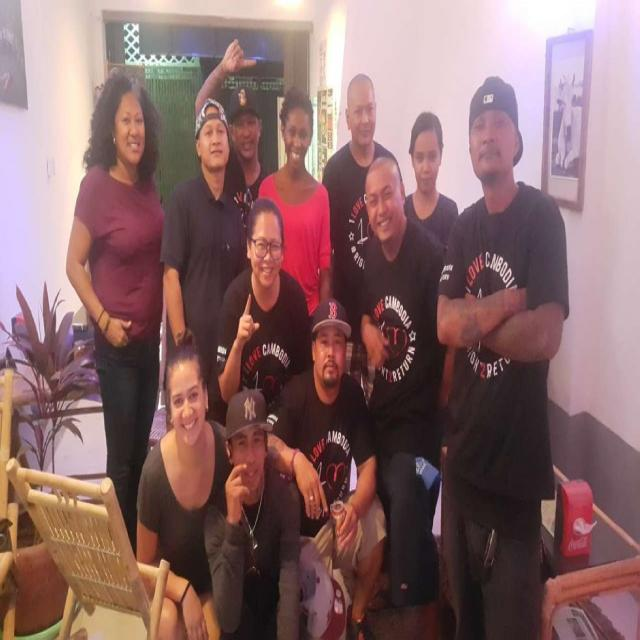body: (434, 73, 572, 640), (64, 65, 168, 561), (261, 290, 391, 639), (355, 149, 450, 621), (136, 333, 236, 639), (160, 94, 248, 436), (321, 68, 403, 409), (200, 385, 305, 640), (212, 195, 314, 416), (256, 84, 332, 322), (192, 35, 268, 240), (403, 110, 460, 252)
